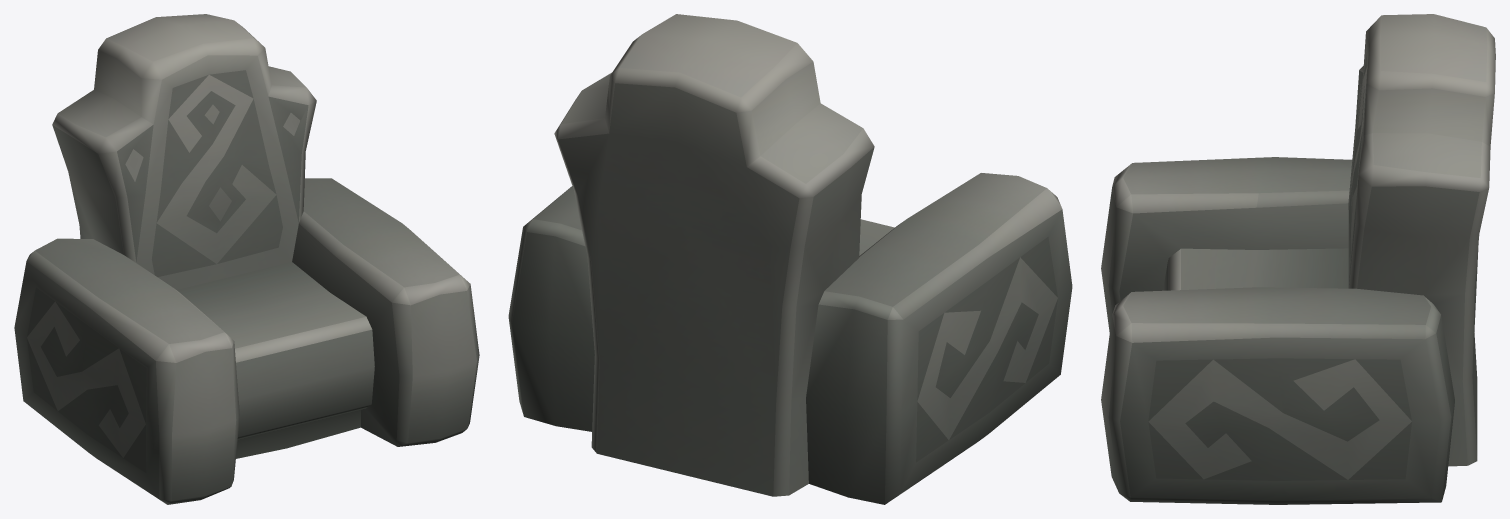
Rendered from throne.fbx.
The picture shows the model from 3 angles, left to right: view 1: azimuth 30°, elevation 25°; view 2: azimuth 150°, elevation 25°; view 3: azimuth 270°, elevation 25°; orthographic projection. The views are drawn at different scales.
Visible parts, largest first — view 1: throne; view 2: throne; view 3: throne.
Part boxes in pixels (x1,y1,x2,y2): throne: (14, 14, 479, 504); throne: (508, 14, 1072, 504); throne: (1101, 14, 1495, 504).
Bounding box in the file's own units: 212 × 211 × 196.
